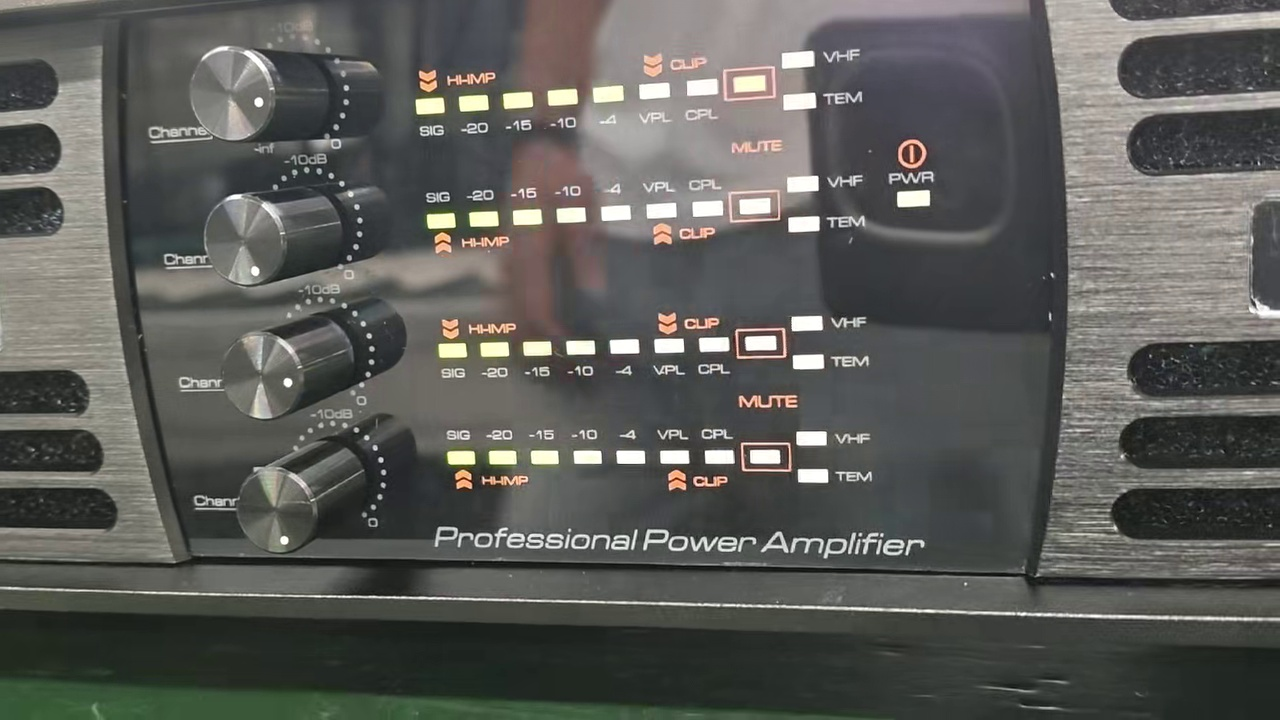FP_CPL: (683, 170, 727, 226), (680, 73, 721, 126), (698, 418, 738, 472), (697, 331, 735, 385)
FP_PWR: (880, 167, 945, 212)
FP_PWR_area: (876, 131, 945, 220)
FP_SIG_area: (406, 36, 874, 142), (423, 169, 873, 258), (430, 301, 883, 387), (436, 417, 877, 501)
FP_VPL: (632, 75, 676, 130), (640, 171, 682, 224), (649, 331, 691, 384), (654, 419, 693, 468)
